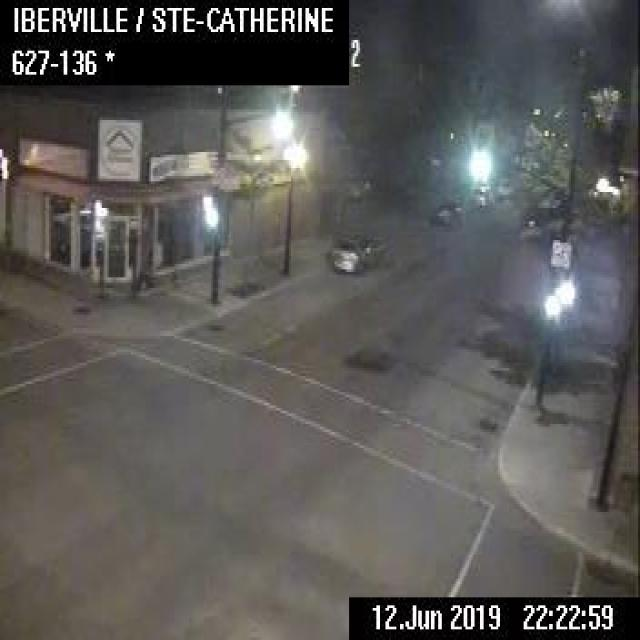vehicle: (329, 227, 384, 274), (433, 196, 465, 226), (464, 180, 492, 212), (492, 172, 516, 198)
